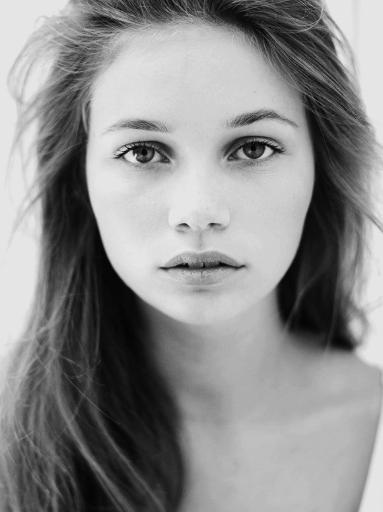left_eye: (224, 138, 289, 172)
left_lip_corner: (231, 256, 254, 281)
right_eye: (112, 140, 175, 172)
right_lip_corner: (156, 259, 174, 284)
